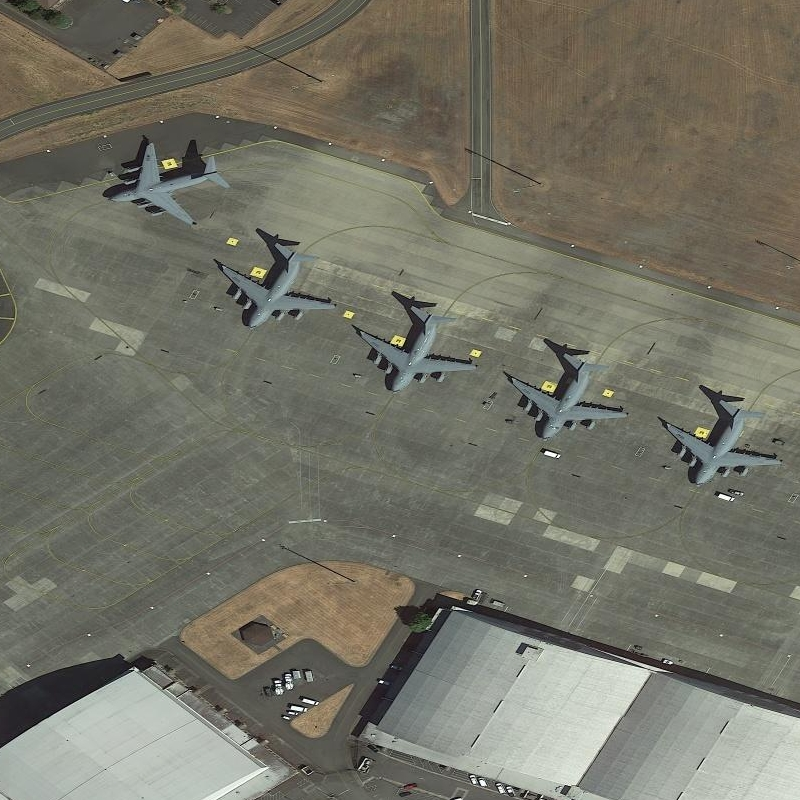A3: (507, 347, 633, 445), (102, 137, 233, 229), (355, 300, 480, 396), (662, 396, 788, 490), (217, 238, 340, 333)
